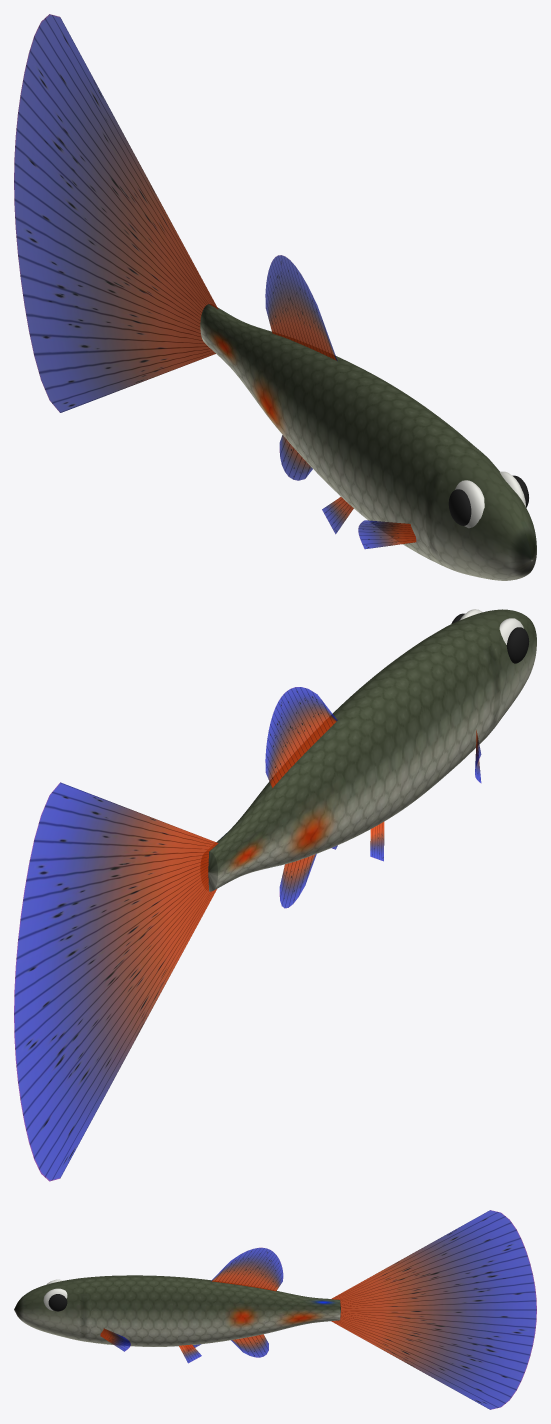
The model's file is guppy_1.glb.
3 renders of one model, top to bottom at view 1: azimuth 30°, elevation 25°; view 2: azimuth 150°, elevation 25°; view 3: azimuth 270°, elevation 25°, orthographic. The views are drawn at different scales.
Parts seen in each view (by area): view 1: fins, body, iris, pupil; view 2: fins, body, pupil; view 3: fins, body, pupil, iris.
Part boxes in pixels (bbox=[...]): fins: bbox=[14, 14, 416, 549]; body: bbox=[200, 304, 536, 580]; iris: bbox=[455, 471, 526, 528]; pupil: bbox=[448, 475, 528, 525]; fins: bbox=[14, 687, 481, 1181]; body: bbox=[208, 609, 536, 891]; pupil: bbox=[451, 613, 529, 663]; fins: bbox=[100, 1210, 536, 1409]; body: bbox=[14, 1275, 340, 1346]; pupil: bbox=[48, 1294, 67, 1311]; iris: bbox=[43, 1279, 67, 1310].
Size of the model in its own units: 0.1467 by 0.476 by 1.13.
Materials: 4 (2 with a texture image).
